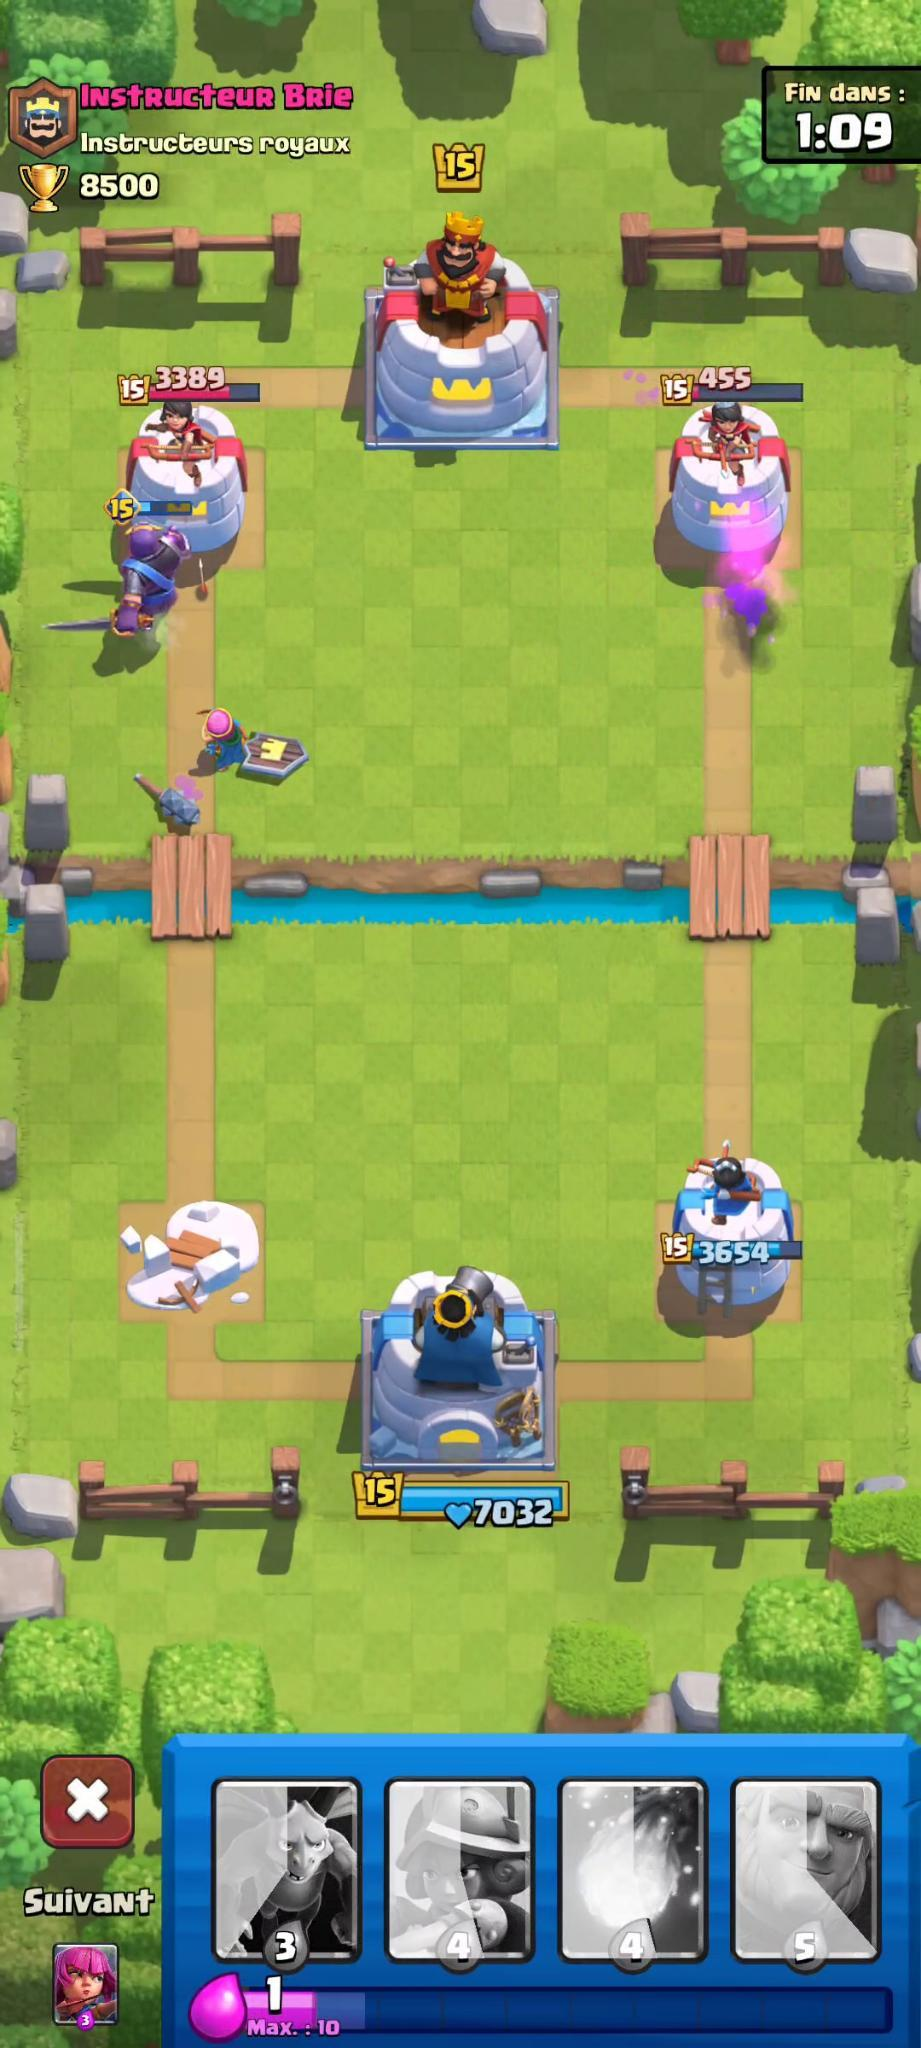player_archers: (191, 700, 252, 774)
player_evo_knight: (44, 497, 205, 674)
